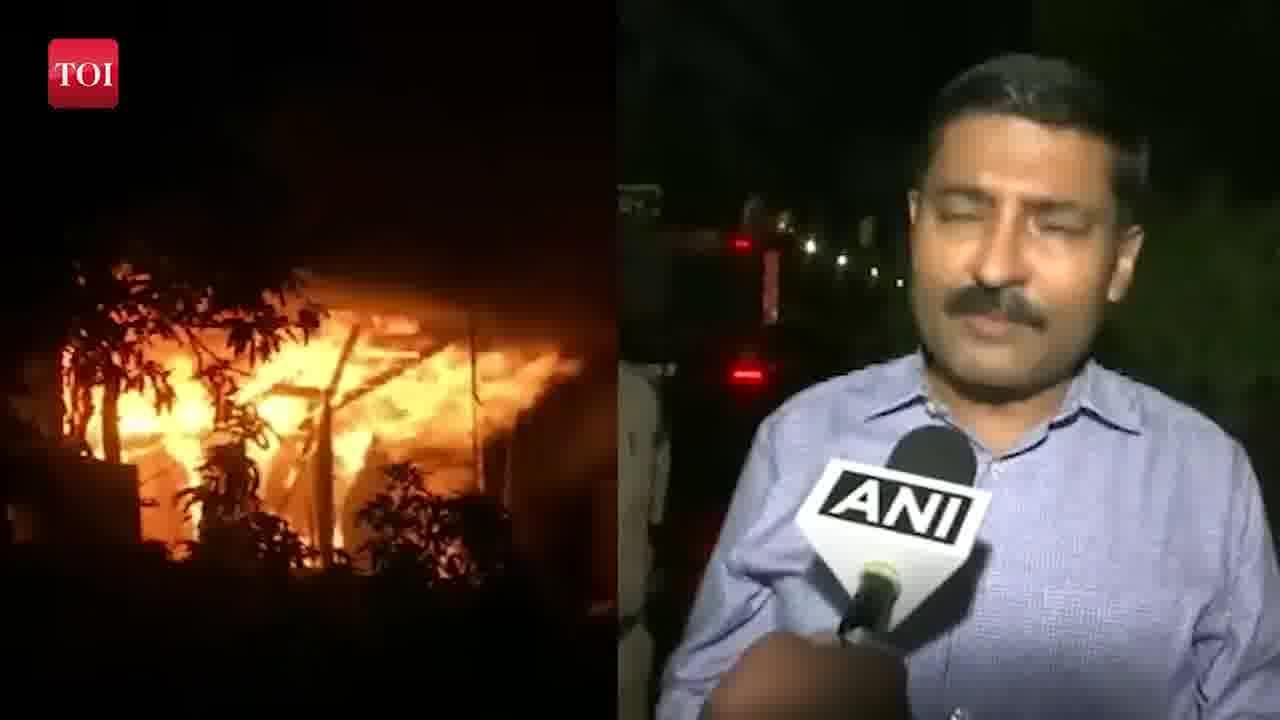fire: (119, 321, 561, 507)
